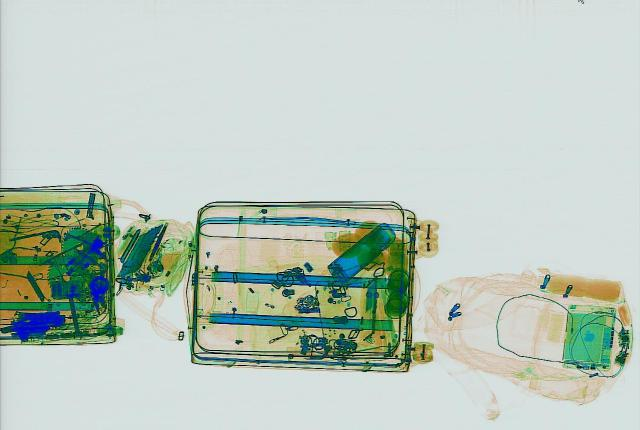Wrench: (60, 287, 84, 338)
